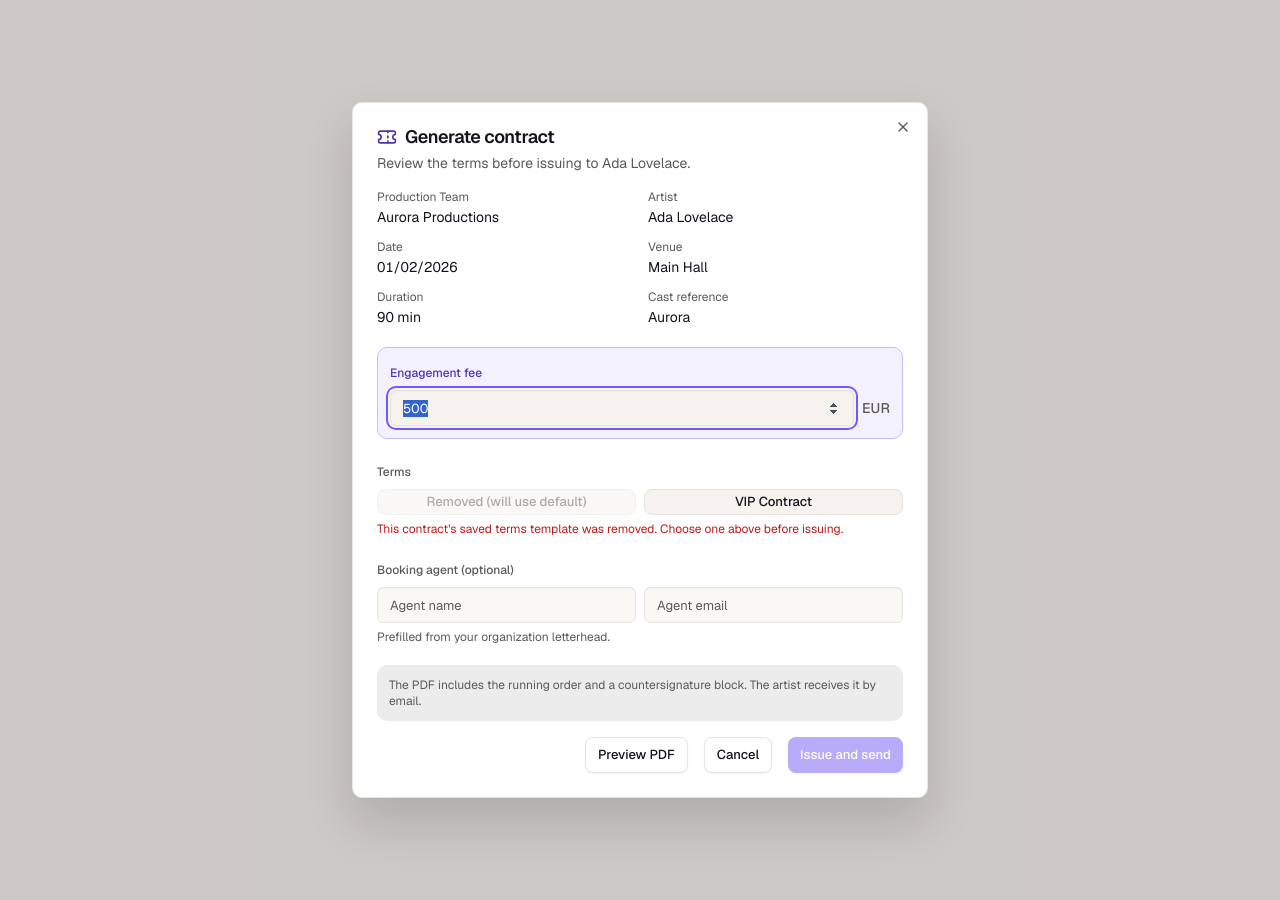
Scenario: GenerateHireOrderDialog › shows a disabled removed chip when the order's stored terms_variant is no longer among the org's templates, and blocks issuing until a live template is chosen
expect the button "Removed (will use default)" is disabled: met, box [377, 489, 636, 515]
expect the button "Issue and send" is disabled: met, box [788, 737, 903, 773]
# Picking the live template clears the block, without the app ever crashing.
Click the radio button labelled "VIP Contract" at (774, 502), box [644, 489, 903, 515]
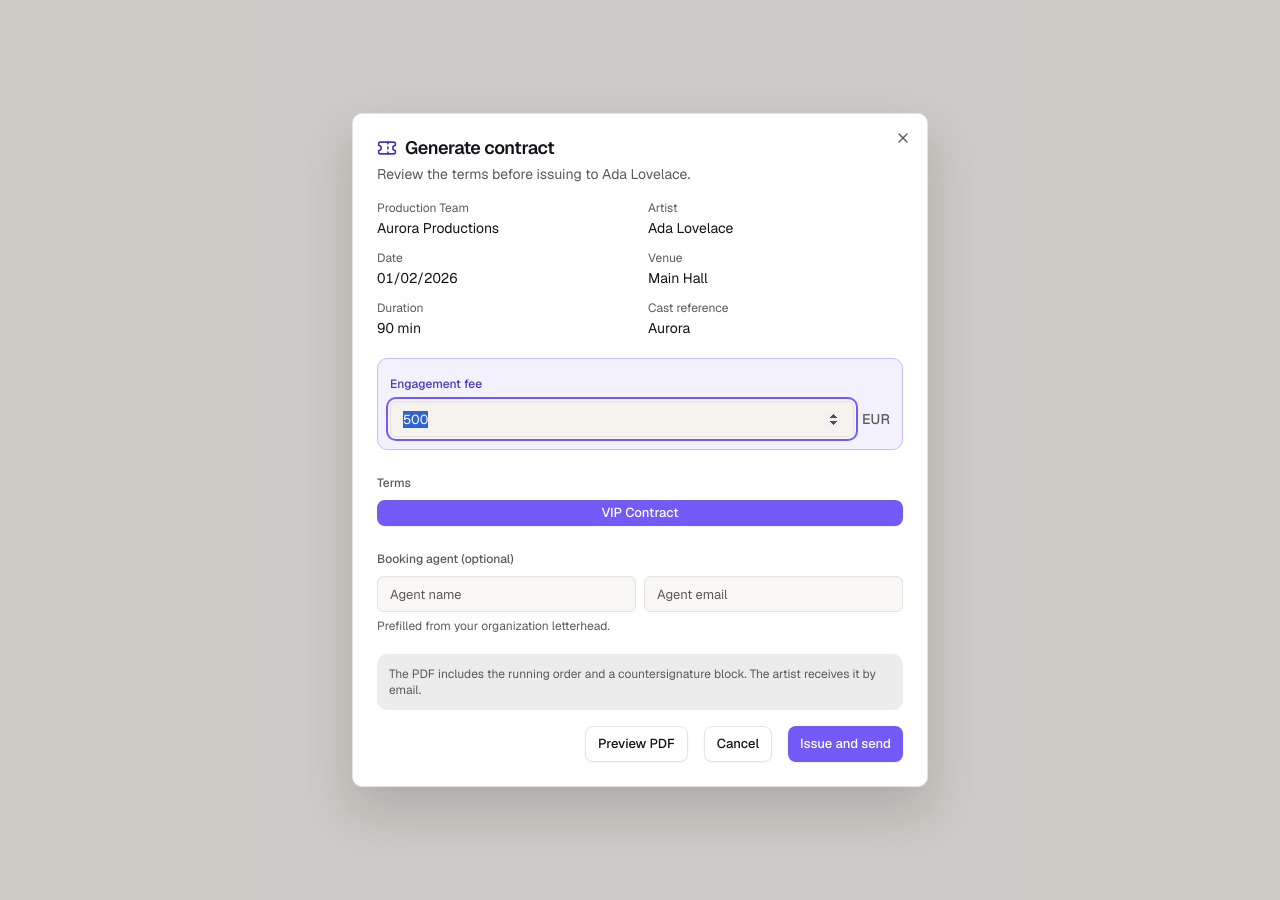
expect the button "Issue and send" is enabled: met, box [788, 726, 903, 762]
